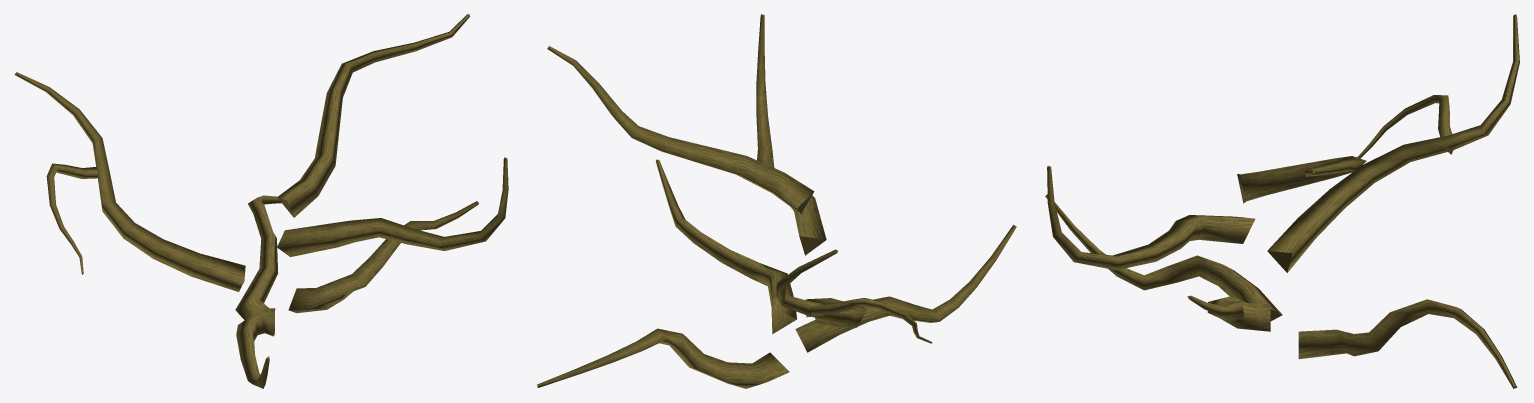
File: INST_TOPTREE_BRANCHES.fbx
The picture shows the model from 3 angles, left to right: view 1: azimuth 30°, elevation 25°; view 2: azimuth 150°, elevation 25°; view 3: azimuth 270°, elevation 25°; orthographic projection. The views are drawn at different scales.
Parts seen in each view (by area): view 1: INST_TOPTREE_BRANCHES; view 2: INST_TOPTREE_BRANCHES; view 3: INST_TOPTREE_BRANCHES.
Boxes of the visible parts, x1,y1,x2,y2 form: INST_TOPTREE_BRANCHES: (14, 14, 508, 388); INST_TOPTREE_BRANCHES: (537, 14, 1016, 388); INST_TOPTREE_BRANCHES: (1045, 14, 1519, 388).
Bounding box in the file's own units: 161564 × 109329 × 157096.
Materials: 1 (1 with a texture image).
